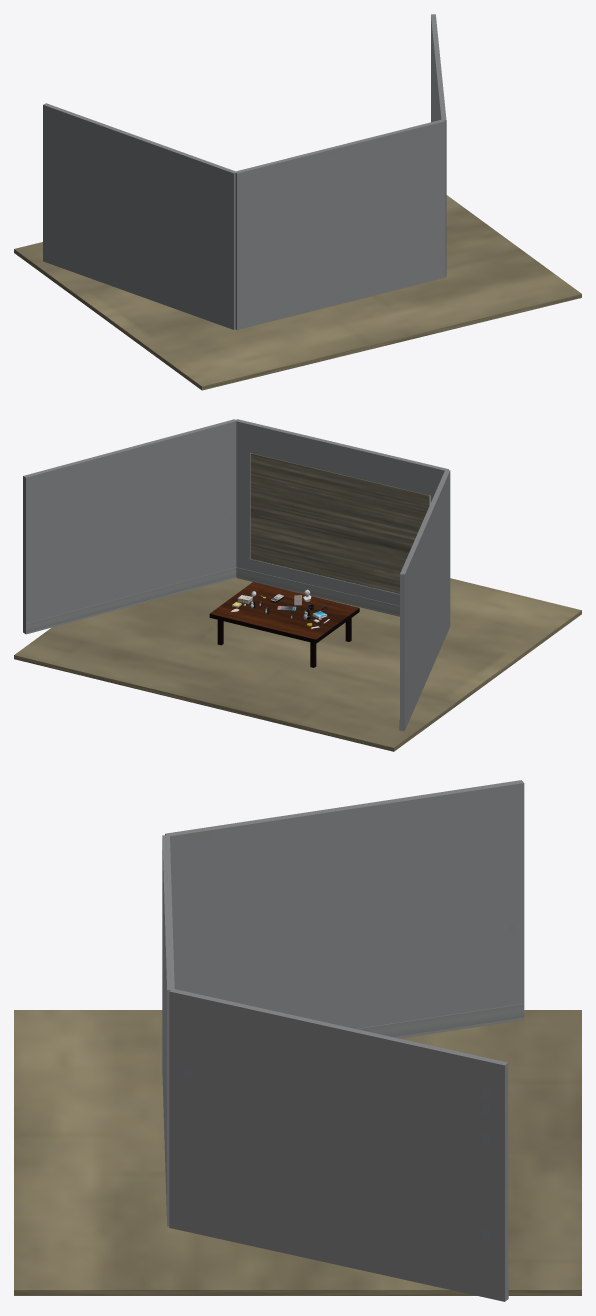
File: ours.glb
3 views of the same model, one above another, from view 1: azimuth 30°, elevation 25°; view 2: azimuth 150°, elevation 25°; view 3: azimuth 270°, elevation 25° (orthographic). The views are drawn at different scales.
Visible parts, largest first — view 1: wall_0, wall_2, floor_0, wall_1; view 2: floor_0, wall_1, wall_0_panel, wall_0, wall_2, table_0, wall_1_skirting, wall_0_skirting; view 3: wall_1, floor_0, wall_2, wall_0, wall_2_skirting.
Boxes of the visible parts, x1,y1,x2,y2 form: wall_0: [234, 120, 445, 329]; wall_2: [43, 103, 235, 329]; floor_0: [14, 195, 581, 390]; wall_1: [431, 14, 446, 276]; floor_0: [14, 578, 581, 751]; wall_1: [23, 419, 236, 633]; wall_0_panel: [250, 453, 429, 593]; wall_0: [235, 419, 448, 605]; wall_2: [400, 470, 450, 730]; table_0: [209, 582, 359, 667]; wall_1_skirting: [26, 567, 236, 634]; wall_0_skirting: [236, 567, 399, 616]; wall_1: [169, 988, 508, 1301]; floor_0: [14, 1010, 581, 1295]; wall_2: [165, 780, 524, 1028]; wall_0: [162, 835, 174, 1226]; wall_2_skirting: [357, 1003, 524, 1038].
Size of the model in its own units: 7.3 by 2.83 by 6.
32 materials, 31 textured.
